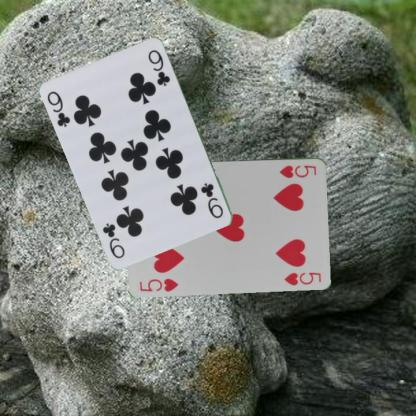5h: (138, 275, 180, 293), (277, 162, 318, 179)
9c: (45, 88, 72, 129), (198, 180, 225, 220)
